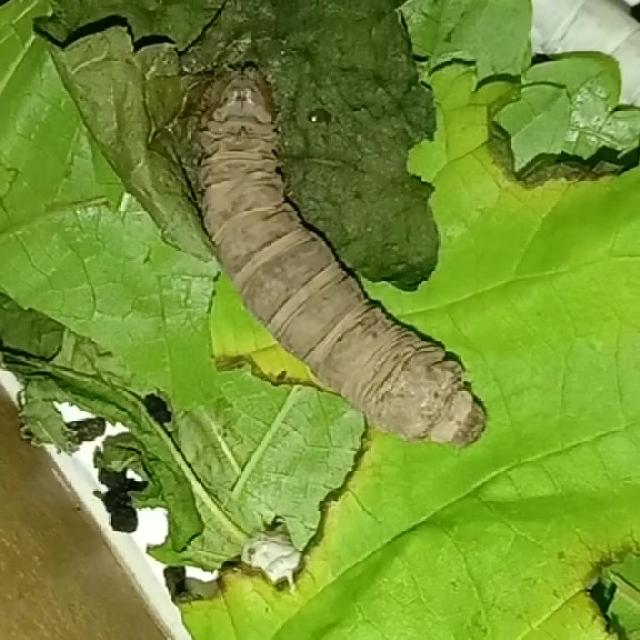Grasserie: (178, 53, 502, 463)
